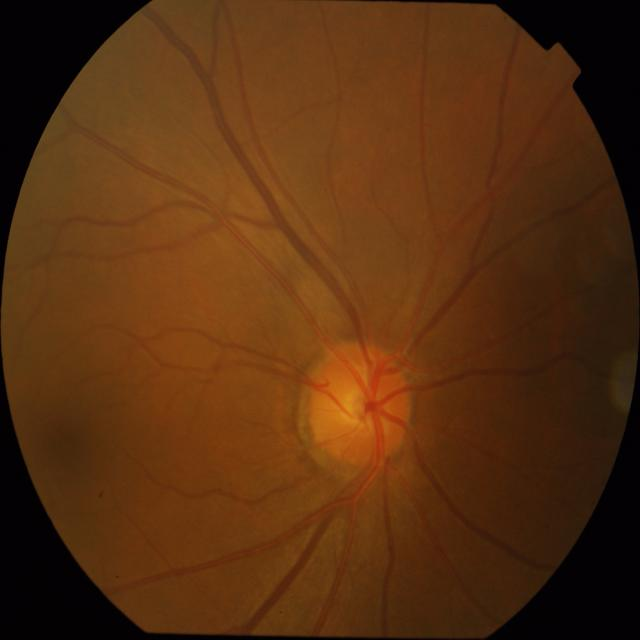OC: (341, 387, 386, 428)
OD: (306, 342, 412, 469)
